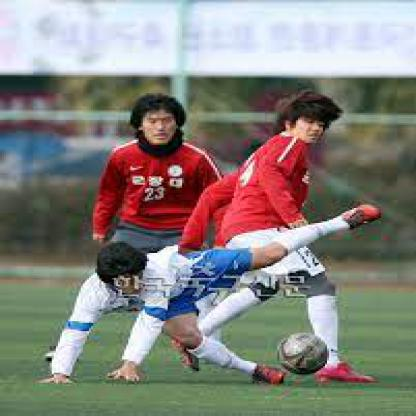Fall_Down: (40, 204, 382, 389)
